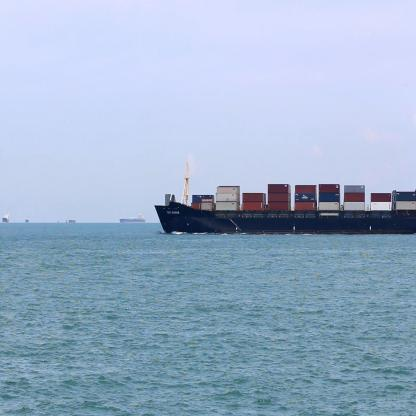Container Ship: (152, 158, 416, 235), (116, 209, 146, 224), (1, 207, 11, 227), (64, 214, 76, 228), (157, 206, 165, 224), (22, 212, 30, 224), (54, 213, 60, 228)
